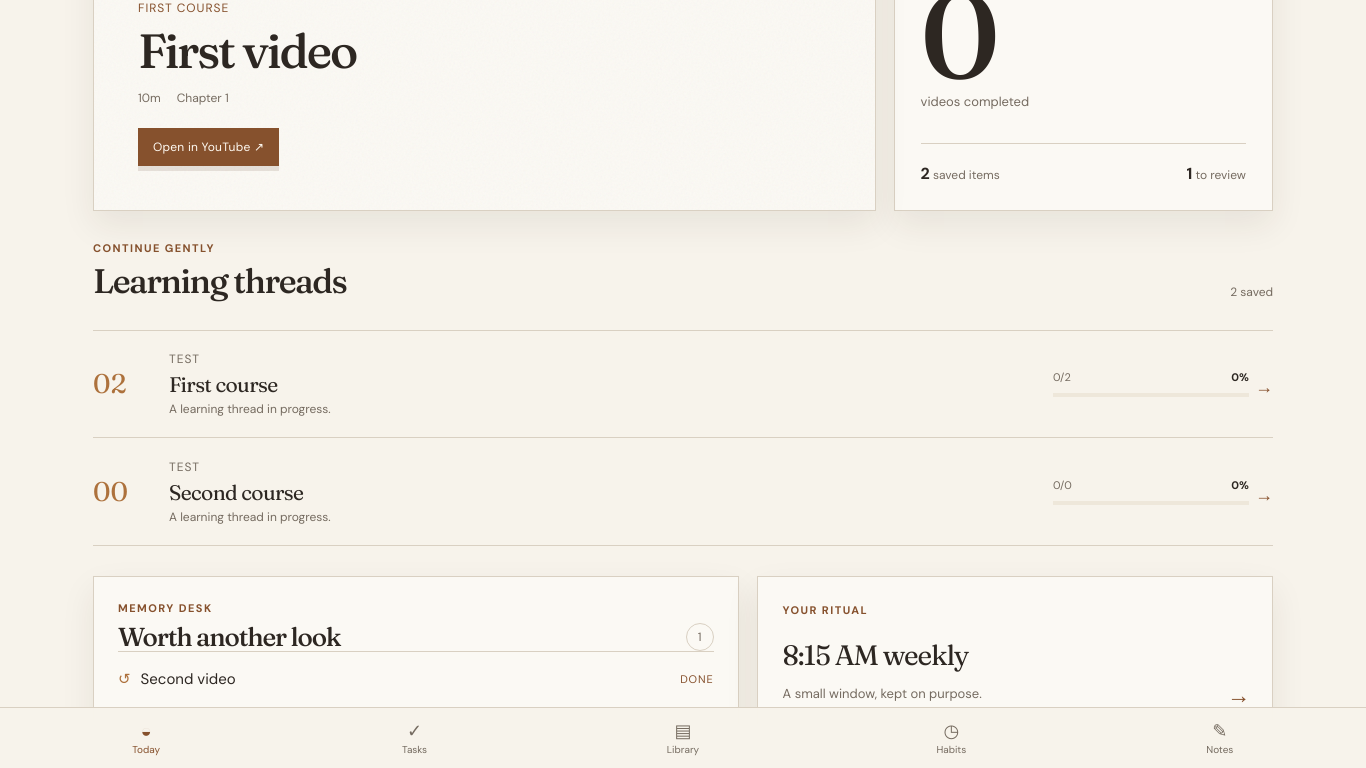
Scenario: video learning controls › adds an individual YouTube chapter and removes it without changing other chapters
(page scrolled)
Click the button "02 Test First course A learning thread in progress. 0/2 0% →": (110, 384) top-left (93, 331), bottom-right (1273, 438)
(page scrolled)
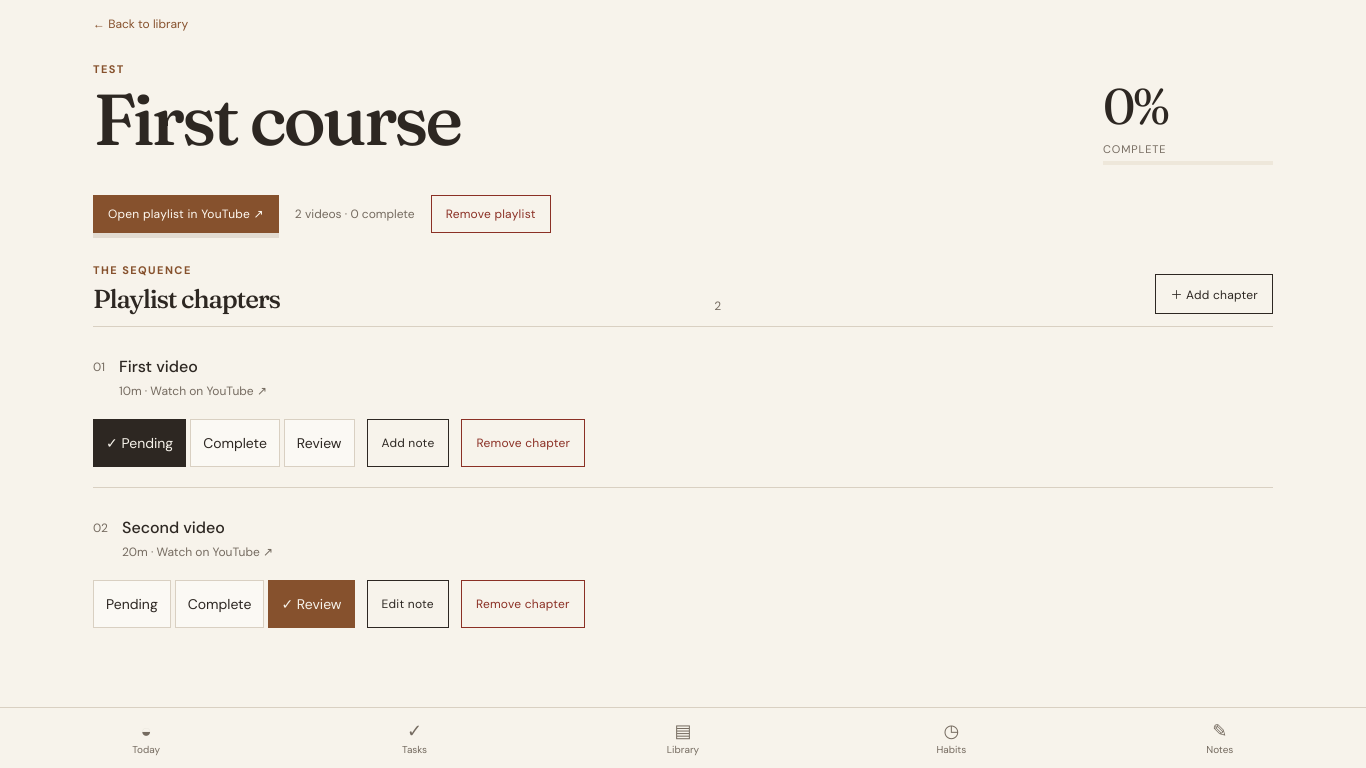
Click the button "＋ Add chapter": (1214, 294) top-left (1155, 274), bottom-right (1273, 314)
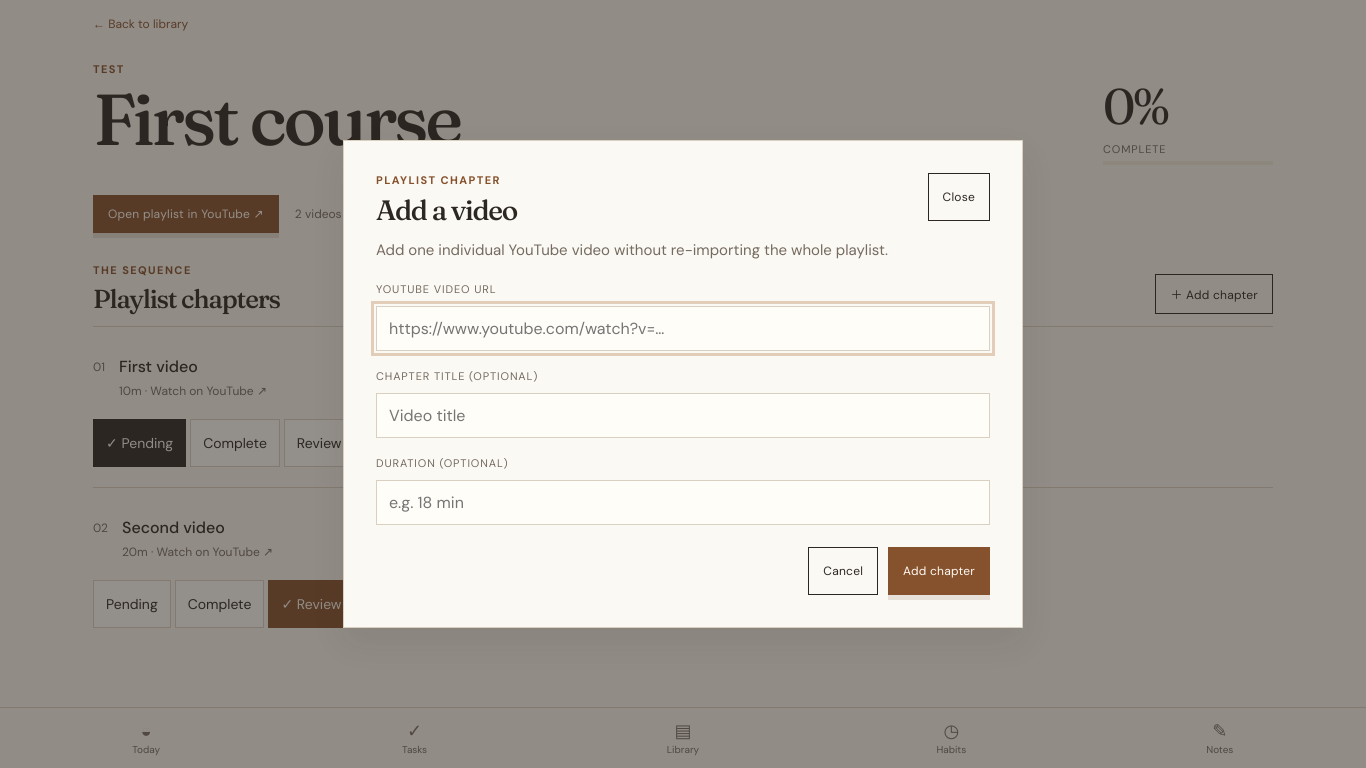
In the field labelled "YouTube video URL": (683, 329) top-left (376, 306), bottom-right (990, 351), type "https://www.youtube.com/watch?v=added"
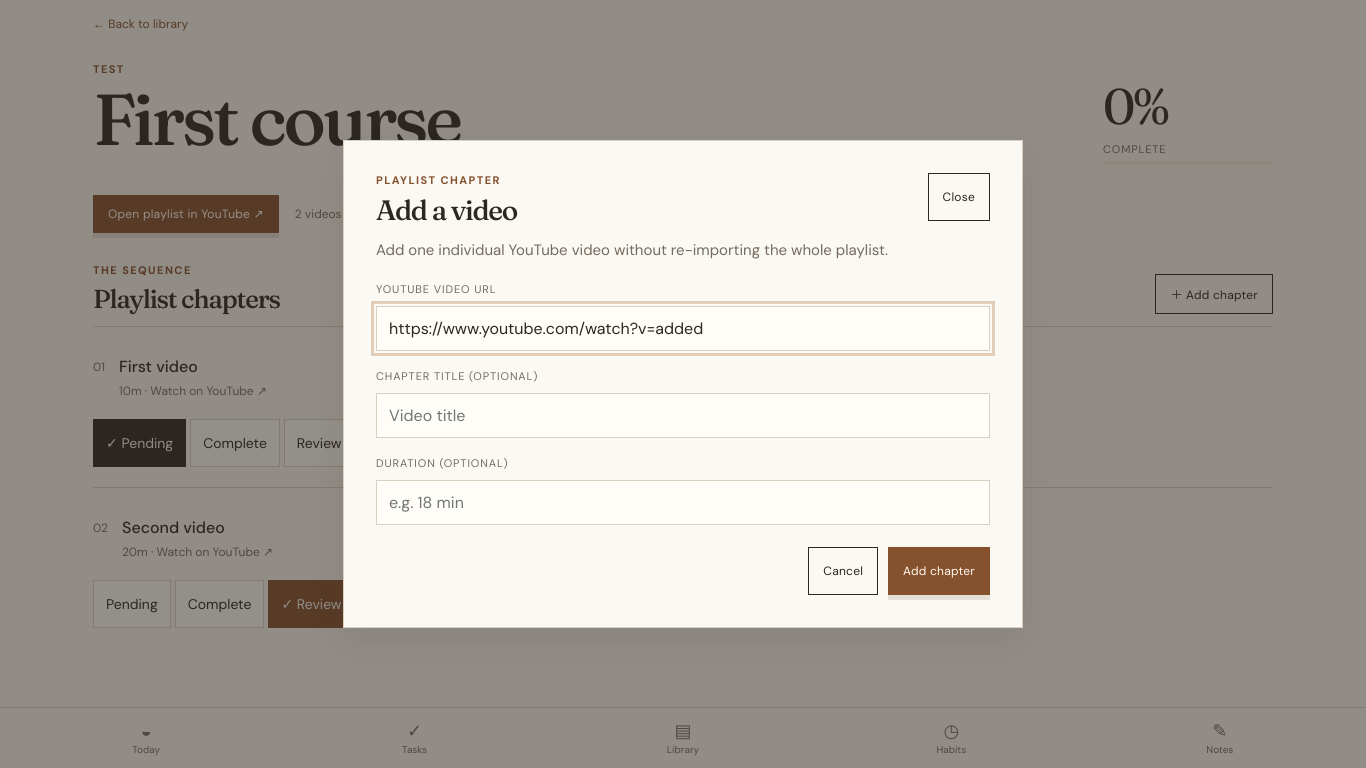
In the field labelled "Chapter title (optional)": (683, 416) top-left (376, 393), bottom-right (990, 438), type "Added chapter"
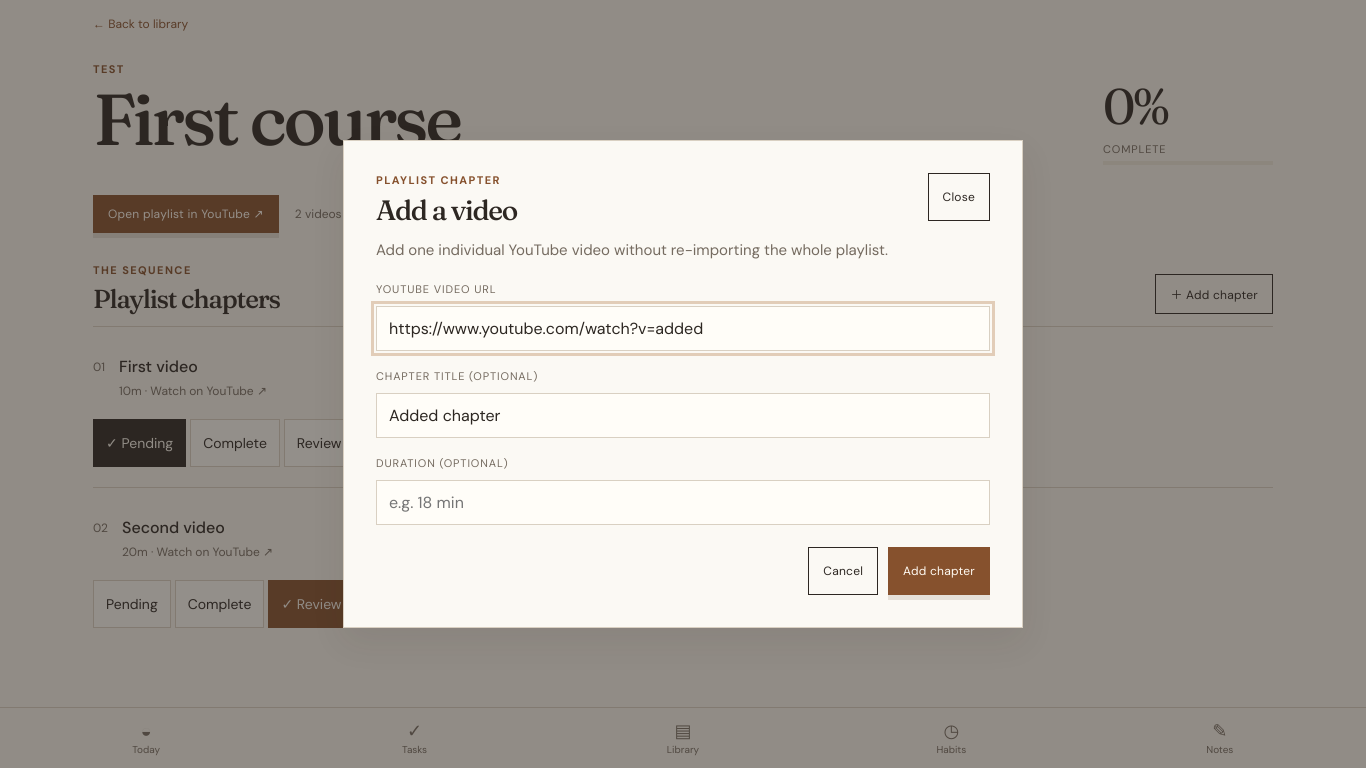
Click the button "Add chapter": (939, 571) top-left (888, 547), bottom-right (990, 595)
(page scrolled)
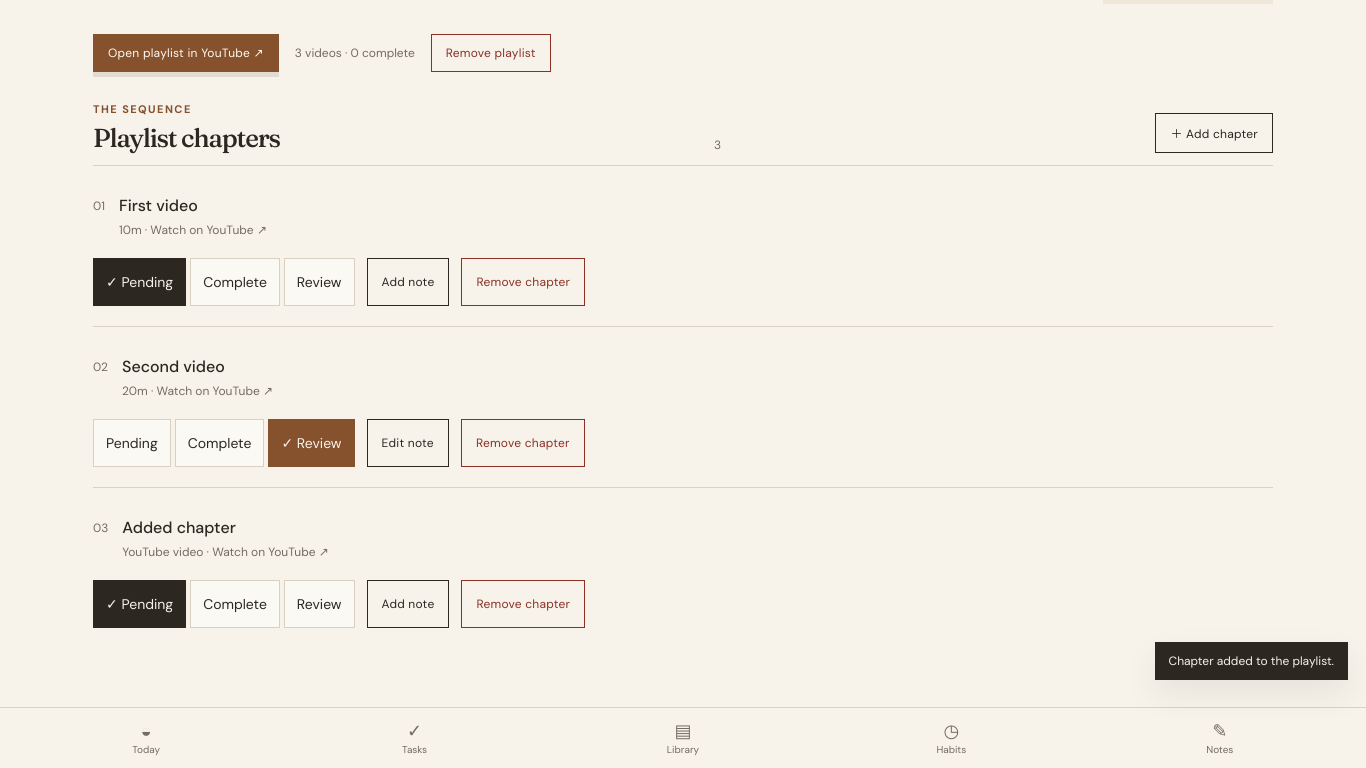
Check: the text "Chapter added to the playlist." is shown, box top-left (1154, 642), bottom-right (1348, 680)
Click the 3rd button "Remove chapter": (523, 604) top-left (461, 580), bottom-right (585, 628)
(page scrolled)
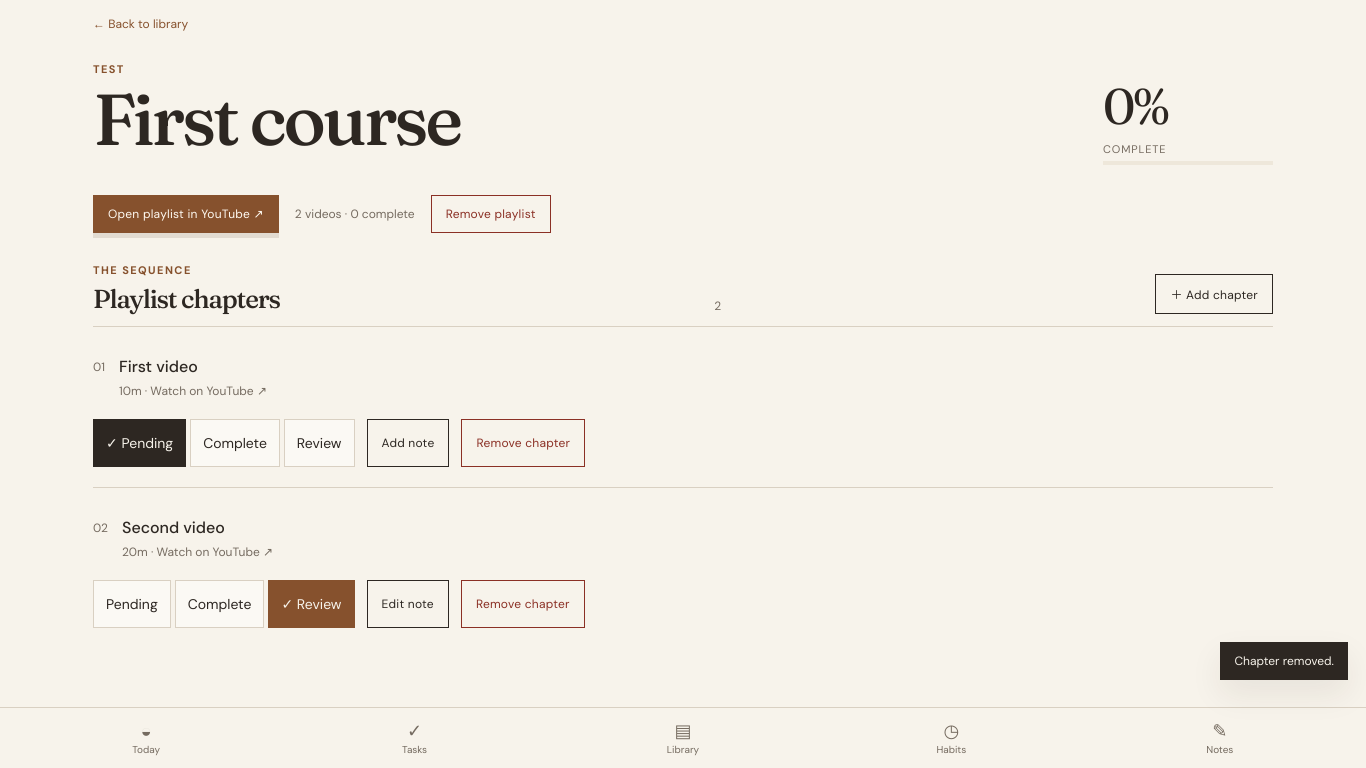
Check: the text "Chapter removed." is shown, box top-left (1220, 642), bottom-right (1348, 680)
